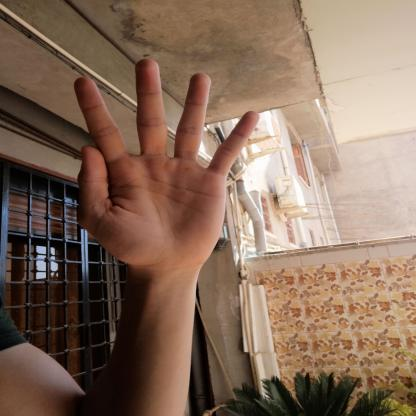SHEEN: (52, 46, 269, 290)
